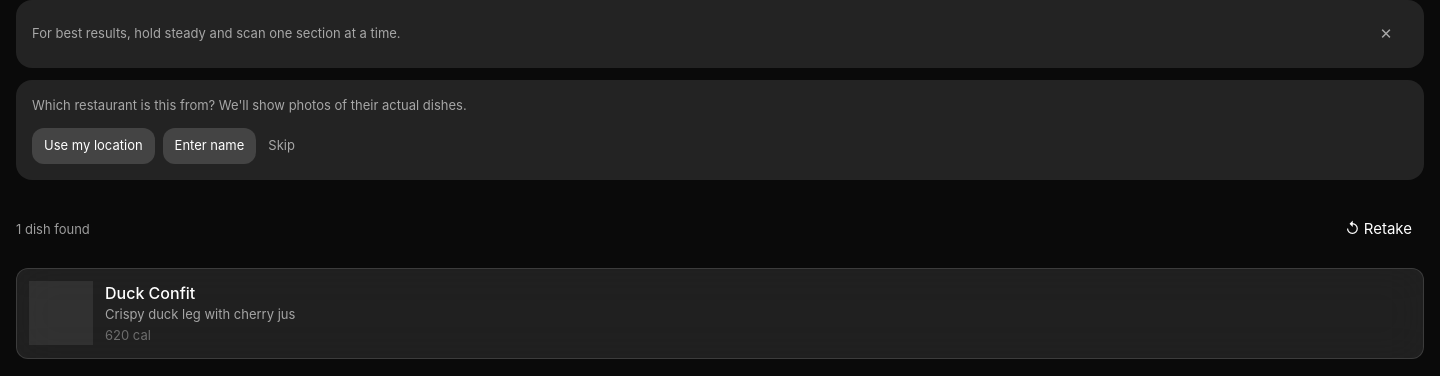
Test: ScanResults › dismissing tip banner sets localStorage key and hides the banner
This screenshot has width=1440, height=376.
Expected: the text "hold steady and scan one section at a time" is shown, x1=32 y1=25 x2=401 y2=41
Click the button named "Dismiss tip" at (1386, 34), box x1=1364 y1=12 x2=1408 y2=56
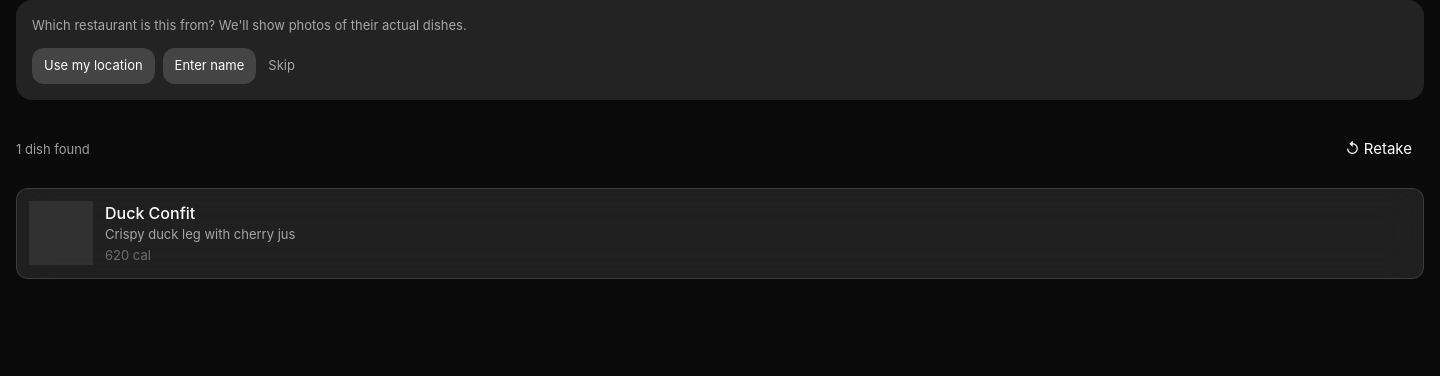
Now the text "hold steady and scan one section at a time" is gone
